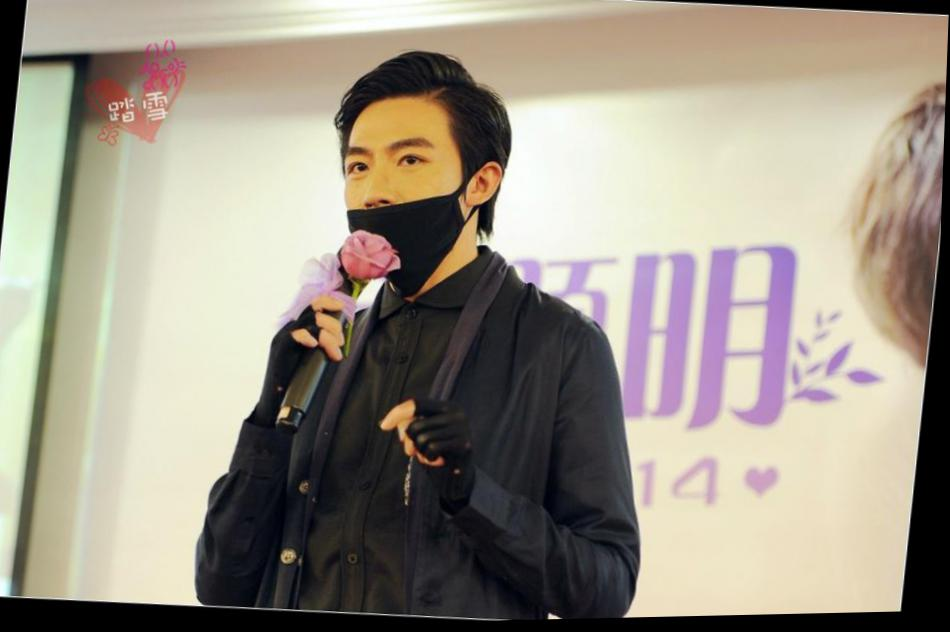WRONG: (334, 119, 481, 292)
